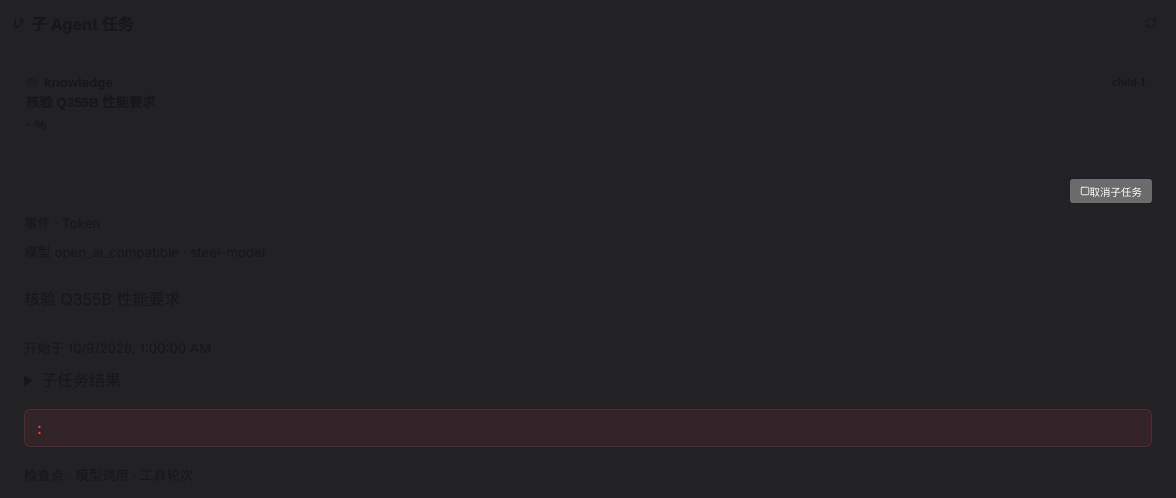
ChildAgentPanel › cancels the selected child and displays the acknowledged terminal state
This screenshot has width=1176, height=498.
Click the button "取消子任务" at coordinates (1111, 191), box [1070,179,1152,203]
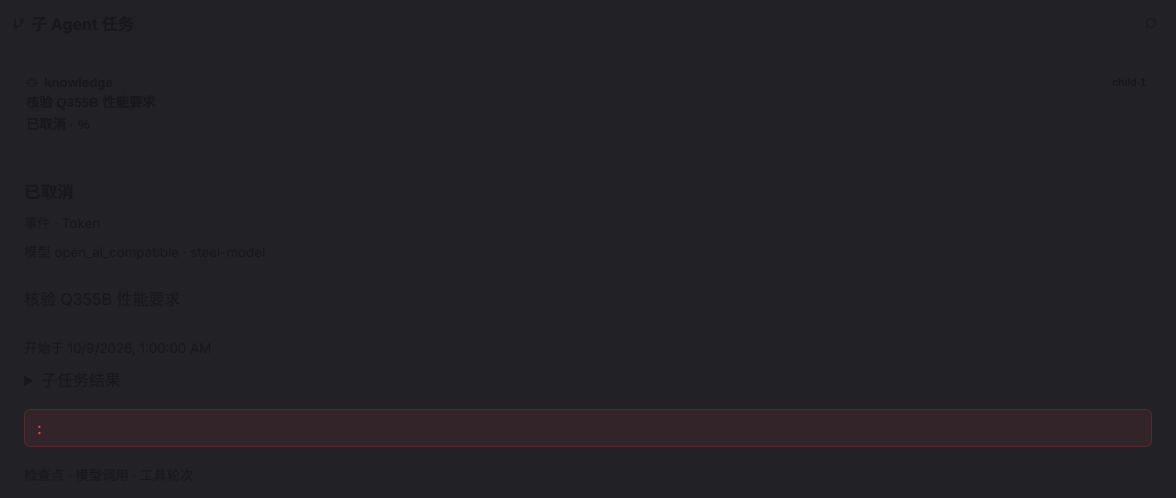
Expected: the button "取消子任务" is gone
